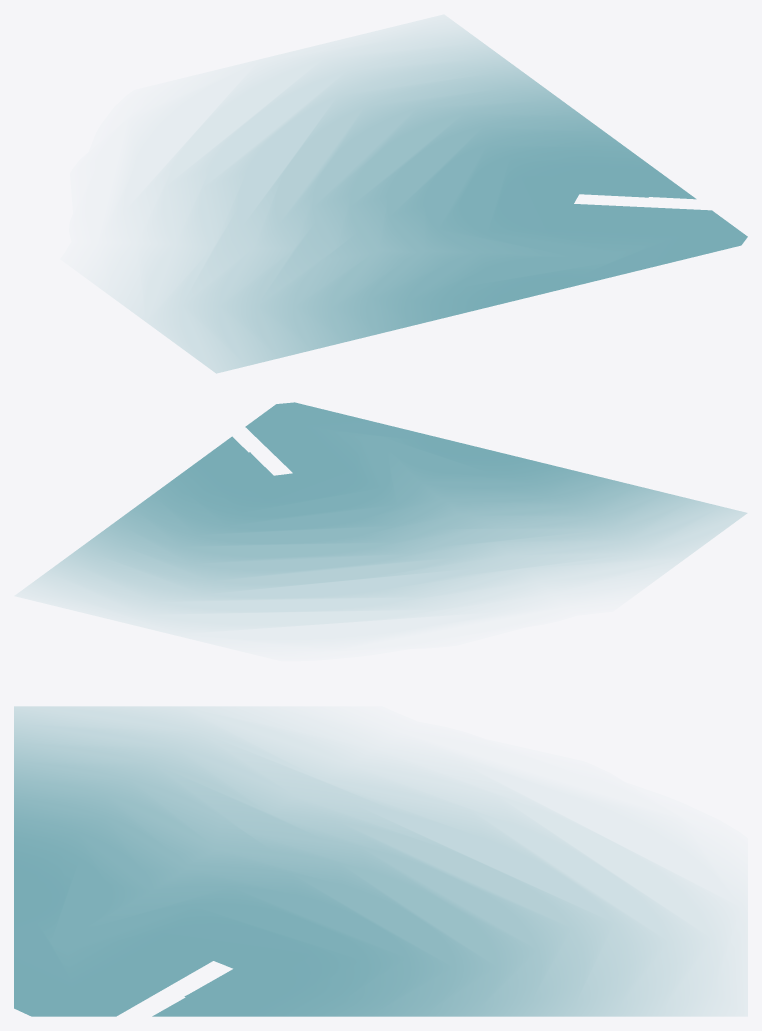
The picture shows the model from 3 angles, top to bottom: view 1: azimuth 30°, elevation 25°; view 2: azimuth 150°, elevation 25°; view 3: azimuth 270°, elevation 25°; orthographic projection. The views are drawn at different scales.
Visible parts, largest first — view 1: city; view 2: city; view 3: city.
Part boxes in pixels (left/top/right/bottom): city: left=121, top=17, right=747, bottom=373; city: left=18, top=402, right=746, bottom=630; city: left=14, top=706, right=740, bottom=1016.
Size of the model in its own units: 500 by 0 by 500.
